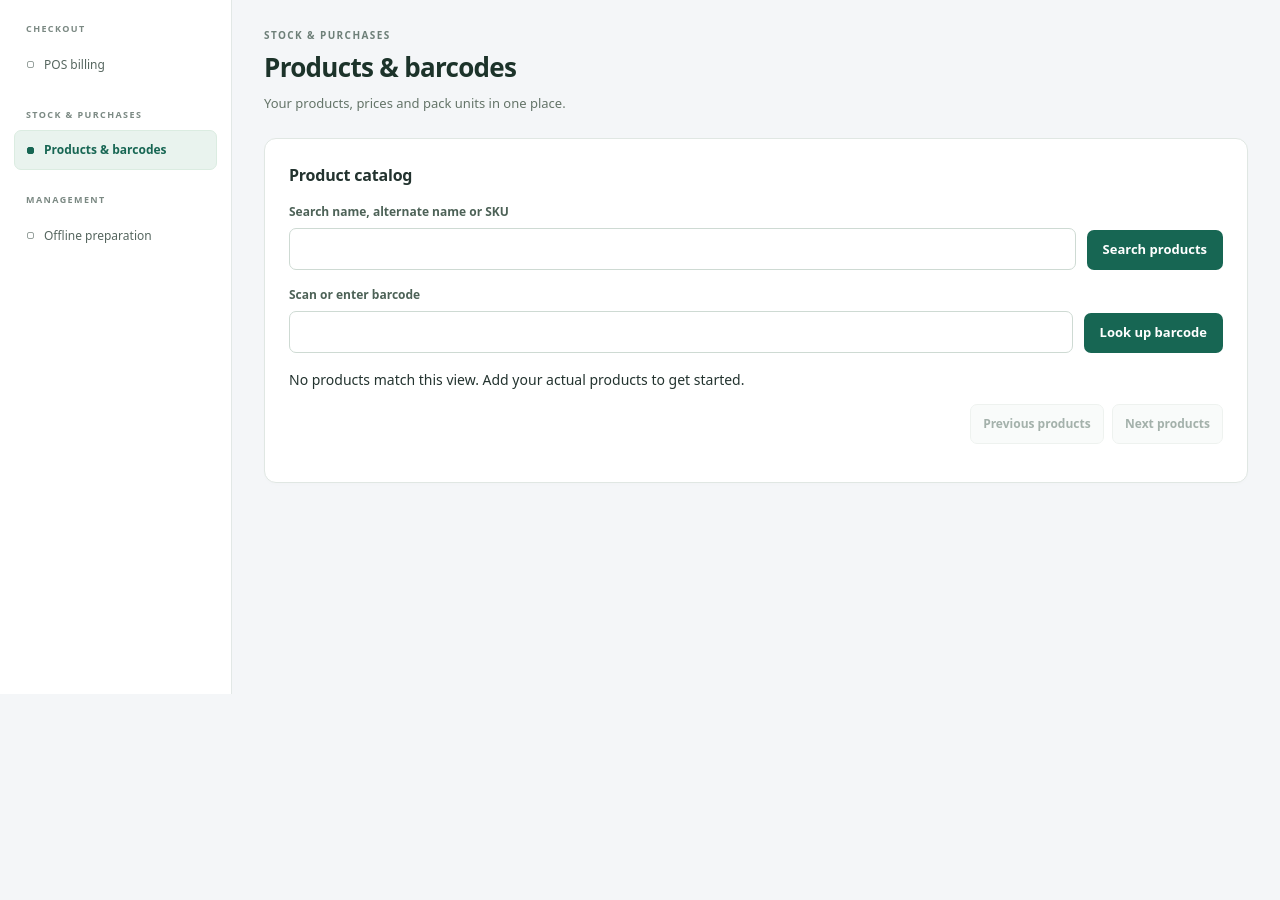
Scenario: real operations API flows › lets a scanner submit barcode lookup using Enter and keeps cashier controls limited
The width and height of the screenshot is (1280, 900).
Expected: the text "No products match" is shown, [289,370,744,389]
In the field labelled "Scan or enter barcode": (681, 332) [289,311,1073,353], type "890001"
Then press Enter
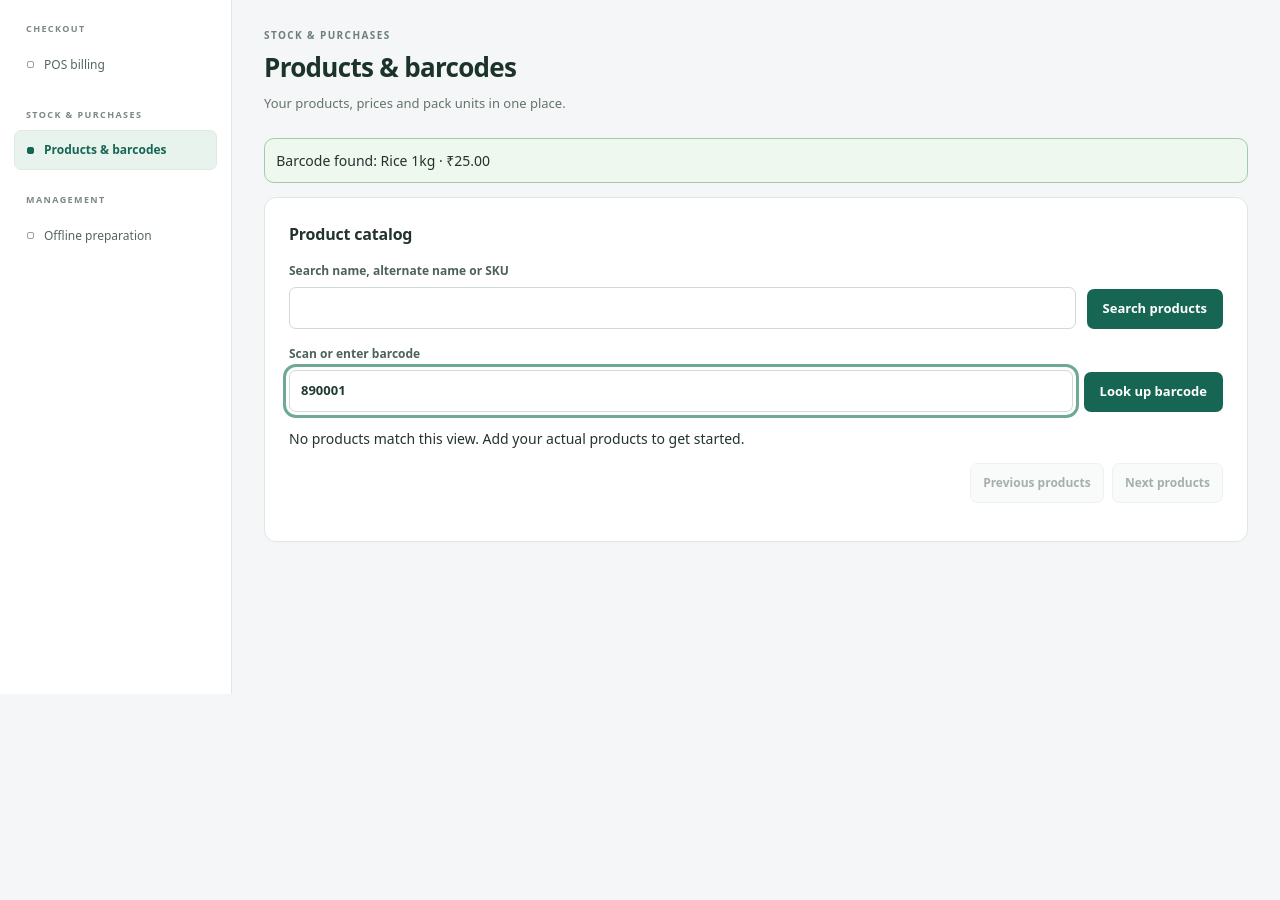
Result: the message reads "Barcode found: Rice 1kg · ₹25.00" at [276,151,490,170]
